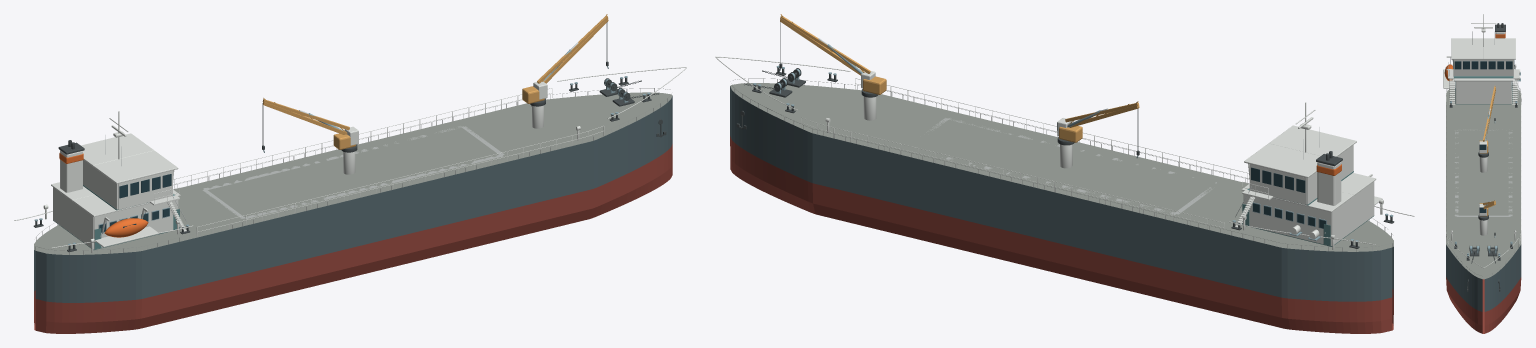
The model's file is study_cargo_inspection.glb.
The picture shows the model from 3 angles, left to right: view 1: azimuth 30°, elevation 25°; view 2: azimuth 150°, elevation 25°; view 3: azimuth 270°, elevation 25°; orthographic projection. The views are drawn at different scales.
Visible parts, largest first — view 1: Hull_0, Decks_main, Hull_1, Equipment_far_structure, Hull_2, Accommodation_near_cover, Accommodation_far_structure, Accommodation_far_cover, Equipment_near_structure, InnerSide_hold; view 2: Hull_7, Decks_main, Hull_6, Accommodation_far_structure, Hull_5, Equipment_far_structure, Accommodation_far_cover, Accommodation_near_cover, Equipment_near_structure; view 3: Decks_main, Accommodation_far_cover, Equipment_far_structure, Accommodation_far_structure, Hull_7, Hull_0, Accommodation_near_cover, Hull_6, Hull_1, Hull_2, Hull_5, Equipment_near_structure (+5 smaller).
Boxes of the visible parts, box(x1,y1,x2,y2) form: Hull_0: box(35, 96, 672, 302); Decks_main: box(34, 92, 672, 254); Hull_1: box(35, 144, 672, 322); Equipment_far_structure: box(14, 14, 685, 253); Hull_2: box(35, 164, 672, 333); Accommodation_near_cover: box(72, 150, 180, 250); Accommodation_far_structure: box(51, 111, 186, 234); Accommodation_far_cover: box(53, 160, 178, 249); Equipment_near_structure: box(196, 126, 604, 237); InnerSide_hold: box(243, 155, 503, 218); Hull_7: box(730, 86, 1392, 301); Decks_main: box(730, 83, 1393, 251); Hull_6: box(730, 136, 1392, 322); Accommodation_far_structure: box(1235, 102, 1353, 246); Hull_5: box(730, 157, 1392, 333); Equipment_far_structure: box(715, 14, 1394, 249); Accommodation_far_cover: box(1243, 145, 1374, 245); Accommodation_near_cover: box(1269, 125, 1376, 231); Equipment_near_structure: box(855, 78, 1249, 182); Decks_main: box(1446, 83, 1521, 279); Accommodation_far_cover: box(1453, 59, 1513, 103); Equipment_far_structure: box(1443, 56, 1521, 291); Accommodation_far_structure: box(1448, 14, 1519, 104); Hull_7: box(1484, 244, 1521, 311); Hull_0: box(1446, 244, 1482, 311); Accommodation_near_cover: box(1451, 38, 1483, 104); Hull_6: box(1484, 277, 1521, 325); Hull_1: box(1446, 277, 1482, 325); Hull_2: box(1447, 291, 1482, 333); Hull_5: box(1484, 292, 1519, 333); Equipment_near_structure: box(1446, 105, 1448, 247).
Size of the model in its own units: 20.53 by 5.95 by 3.11.
